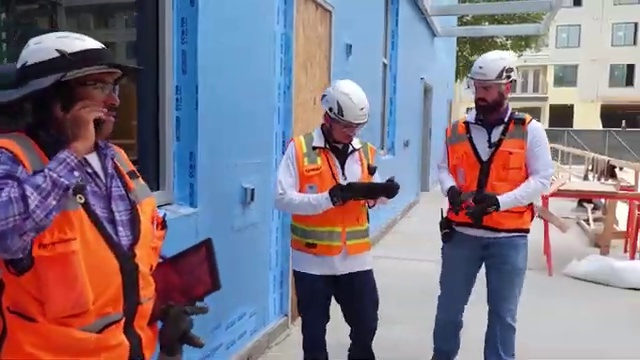helmet: (315, 63, 394, 129), (18, 32, 131, 78), (467, 44, 524, 91)
jacket: (1, 134, 173, 360), (276, 133, 382, 258), (455, 111, 541, 237)
